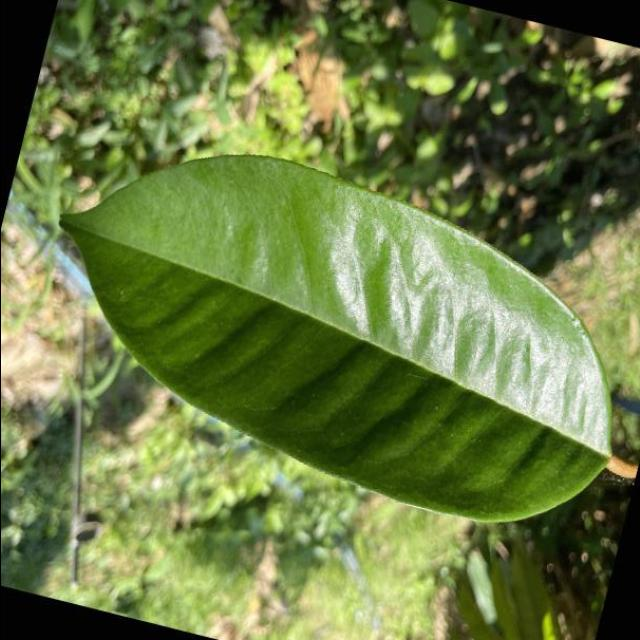No Disease: (6, 99, 640, 559)
